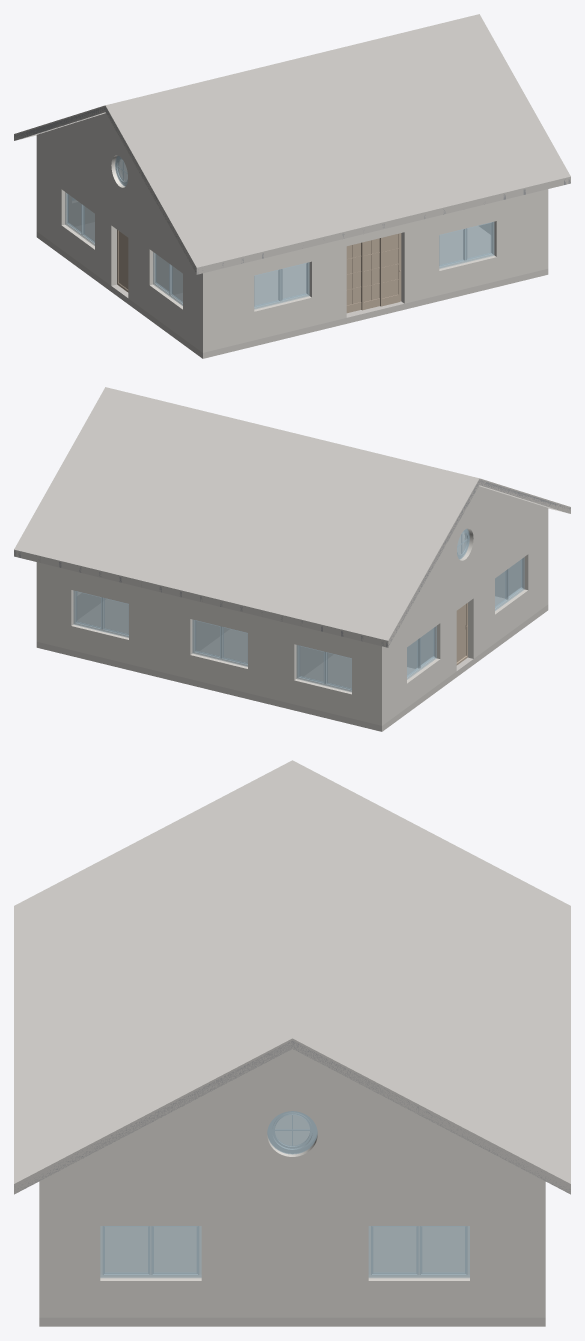
3 views of the same model, one above another, from view 1: azimuth 30°, elevation 25°; view 2: azimuth 150°, elevation 25°; view 3: azimuth 270°, elevation 25° (orthographic). The views are drawn at different scales.
Parts seen in each view (by area): view 1: slab, wall, glazing, door, mullion; view 2: slab, wall, glazing, mullion, door; view 3: slab, wall, glazing, mullion.
Part boxes in pixels (x1,y1,x2,y2): slab: (14, 14, 570, 358); wall: (36, 113, 548, 352); glazing: (65, 155, 494, 309); door: (117, 230, 401, 313); mullion: (14, 107, 570, 274); slab: (14, 387, 570, 731); wall: (36, 486, 548, 725); glazing: (73, 528, 524, 692); mullion: (14, 480, 570, 647); door: (456, 603, 467, 665); slab: (14, 760, 570, 1326); wall: (39, 1049, 545, 1317); glazing: (100, 1111, 469, 1278); mullion: (17, 1041, 570, 1192).
Size of the model in its own units: 13 by 6.52 by 11.
